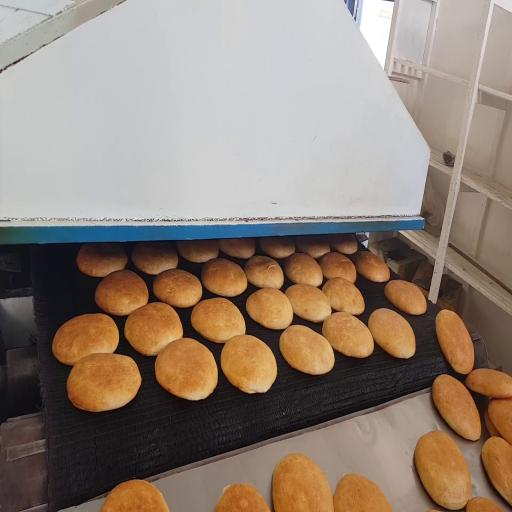bread: (414, 431, 471, 510), (67, 354, 141, 411), (155, 338, 217, 400), (272, 454, 334, 511), (52, 314, 119, 365), (221, 335, 277, 393), (432, 375, 481, 440), (125, 302, 183, 356), (280, 325, 334, 374), (95, 270, 148, 316), (436, 310, 474, 374), (191, 298, 245, 342), (368, 309, 415, 358), (323, 312, 373, 358), (334, 474, 392, 511), (100, 480, 169, 511), (482, 437, 511, 505), (246, 288, 293, 329), (153, 269, 202, 308), (202, 258, 247, 297), (286, 284, 331, 322), (77, 243, 127, 277), (322, 278, 364, 315), (384, 279, 427, 315), (132, 242, 178, 275), (215, 484, 269, 511), (466, 369, 511, 398), (244, 256, 283, 288), (285, 253, 322, 286), (319, 253, 356, 283), (355, 251, 390, 282), (488, 399, 511, 444), (177, 240, 218, 263), (295, 236, 330, 258), (219, 238, 255, 259), (259, 237, 295, 258), (328, 234, 357, 254), (466, 497, 503, 511), (484, 411, 500, 436)
